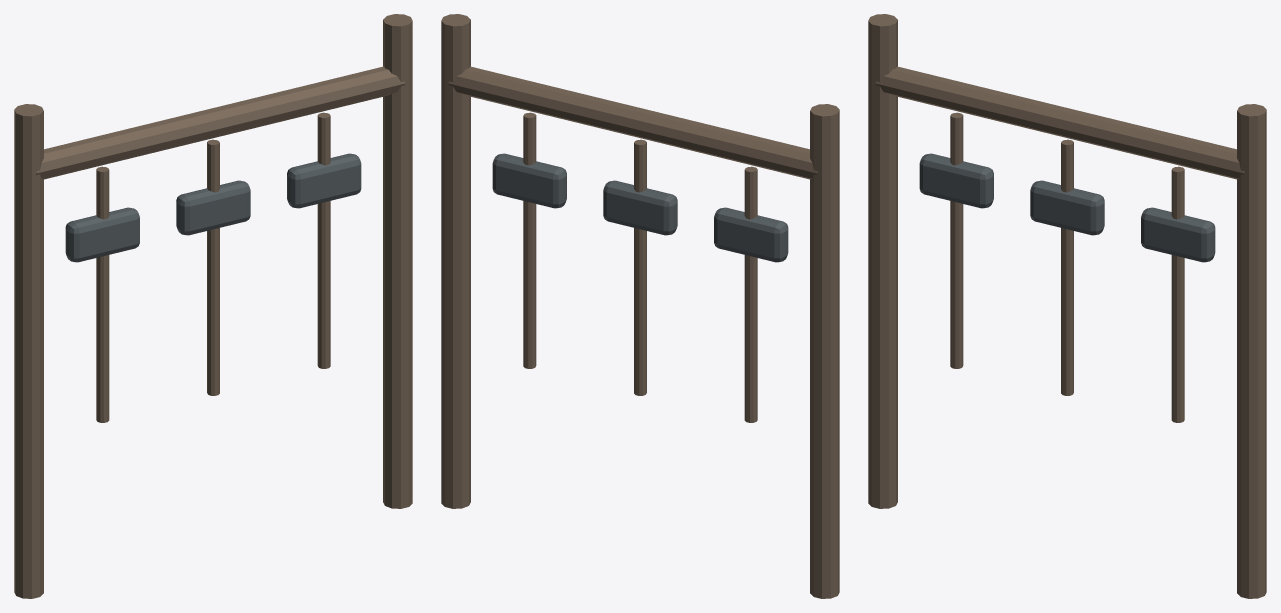
File: tool_rack.glb
3 renders of one model, left to right at view 1: azimuth 30°, elevation 25°; view 2: azimuth 150°, elevation 25°; view 3: azimuth 330°, elevation 25°, orthographic.
Visible parts, largest first — view 1: Body.057; view 2: Body.057; view 3: Body.057.
Boxes of the visible parts, x1,y1,x2,y2 form: Body.057: [14, 14, 412, 598]; Body.057: [441, 14, 839, 598]; Body.057: [868, 14, 1266, 598].
Bounding box in the file's own units: 1.07 × 1.25 × 0.07.
